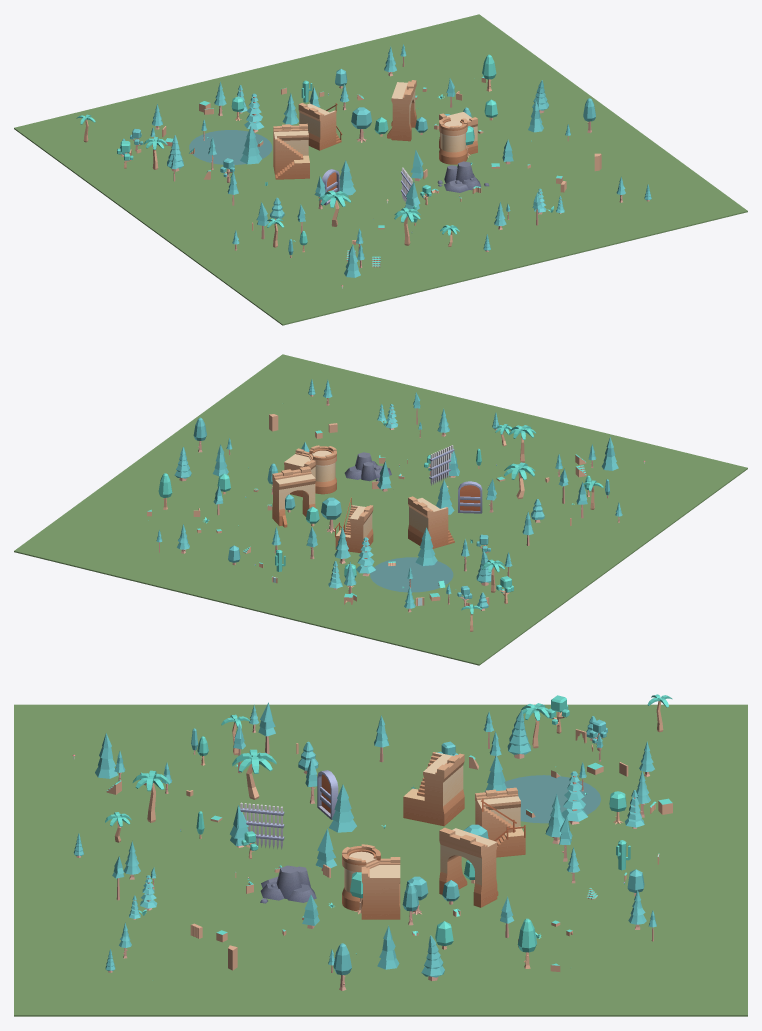
Rendered from world.glb.
3 views of the same model, one above another, from view 1: azimuth 30°, elevation 25°; view 2: azimuth 150°, elevation 25°; view 3: azimuth 270°, elevation 25° (orthographic). The views are drawn at different scales.
Parts seen in each view (by area): view 1: Terrain, Ruin_003_wall-narrow-stairs, PondWater, Ruin_000_wall-corner-half-tow, Ruin_002_wall-narrow-stairs-r, Ruin_001_wall-narrow-gate, Ruin_006_rocks-large; view 2: Terrain, PondWater, Ruin_003_wall-narrow-stairs, Ruin_001_wall-narrow-gate, Ruin_000_wall-corner-half-tow, Ruin_002_wall-narrow-stairs-r, Ruin_004_gate, Ruin_006_rocks-large, Ruin_005_metal-gate; view 3: Terrain, Ruin_000_wall-corner-half-tow, Ruin_003_wall-narrow-stairs, Ruin_001_wall-narrow-gate, Ruin_002_wall-narrow-stairs-r, PondWater, Ruin_006_rocks-large, Ruin_005_metal-gate, Tree_057_tree_palmDetailedSho, Ruin_004_gate, Tree_064_tree_pineRoundB, Tree_021_tree_pineGroundA (+7 smaller).
Part boxes in pixels (x1=…): Terrain: x1=14, y1=14, x2=747, y2=325; Ruin_003_wall-narrow-stairs: x1=273, y1=123, x2=309, y2=179; PondWater: x1=189, y1=130, x2=272, y2=164; Ruin_000_wall-corner-half-tow: x1=439, y1=112, x2=477, y2=164; Ruin_002_wall-narrow-stairs-r: x1=298, y1=103, x2=342, y2=150; Ruin_001_wall-narrow-gate: x1=387, y1=80, x2=416, y2=141; Ruin_006_rocks-large: x1=437, y1=161, x2=489, y2=192; Terrain: x1=14, y1=354, x2=747, y2=665; PondWater: x1=370, y1=557, x2=453, y2=592; Ruin_003_wall-narrow-stairs: x1=408, y1=496, x2=454, y2=548; Ruin_001_wall-narrow-gate: x1=272, y1=466, x2=315, y2=527; Ruin_000_wall-corner-half-tow: x1=284, y1=445, x2=336, y2=497; Ruin_002_wall-narrow-stairs-r: x1=334, y1=497, x2=373, y2=552; Ruin_004_gate: x1=458, y1=481, x2=482, y2=513; Ruin_006_rocks-large: x1=344, y1=452, x2=391, y2=481; Ruin_005_metal-gate: x1=429, y1=445, x2=454, y2=485; Terrain: x1=14, y1=704, x2=747, y2=1016; Ruin_000_wall-corner-half-tow: x1=342, y1=844, x2=400, y2=919; Ruin_003_wall-narrow-stairs: x1=403, y1=752, x2=464, y2=826; Ruin_001_wall-narrow-gate: x1=439, y1=827, x2=498, y2=907; Ruin_002_wall-narrow-stairs-r: x1=475, y1=787, x2=525, y2=857; PondWater: x1=504, y1=775, x2=600, y2=823; Ruin_006_rocks-large: x1=260, y1=865, x2=316, y2=903; Ruin_005_metal-gate: x1=240, y1=802, x2=284, y2=849; Tree_057_tree_palmDetailedSho: x1=232, y1=749, x2=276, y2=799; Ruin_004_gate: x1=317, y1=770, x2=338, y2=819; Tree_064_tree_pineRoundB: x1=561, y1=771, x2=587, y2=824; Tree_021_tree_pineGroundA: x1=329, y1=784, x2=356, y2=832.
Bounding box in the file's own units: 180 × 17.57 × 180.
Materials: 159 (7 with a texture image).
